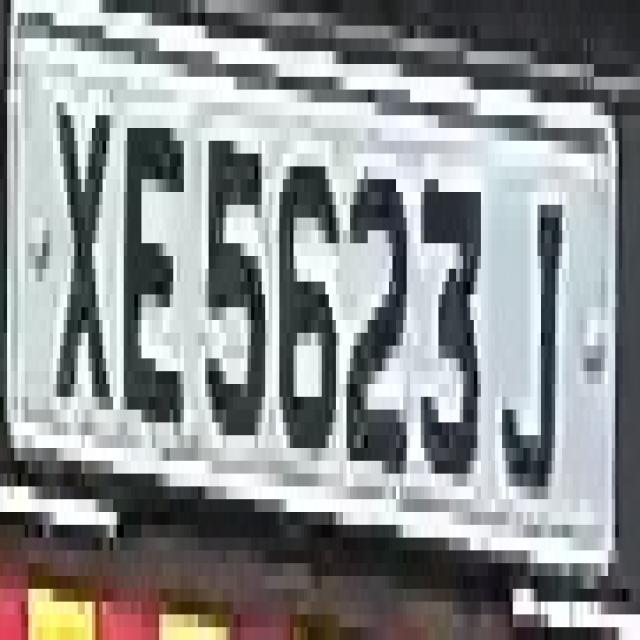2: (343, 128, 414, 499)
3: (406, 128, 492, 512)
5: (202, 90, 268, 460)
6: (272, 141, 347, 499)
E: (120, 90, 184, 473)
J: (498, 166, 566, 499)
X: (53, 51, 117, 422)
